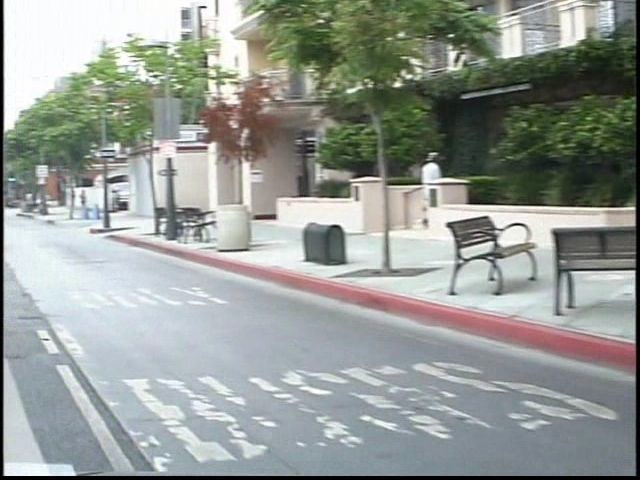person: (396, 146, 435, 236), (61, 182, 79, 216)
